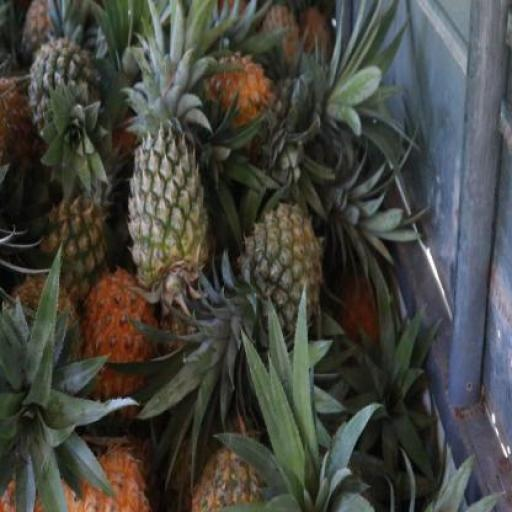Pineapple - v8 v1: (79, 270, 154, 420), (46, 436, 152, 512), (200, 47, 279, 130)
